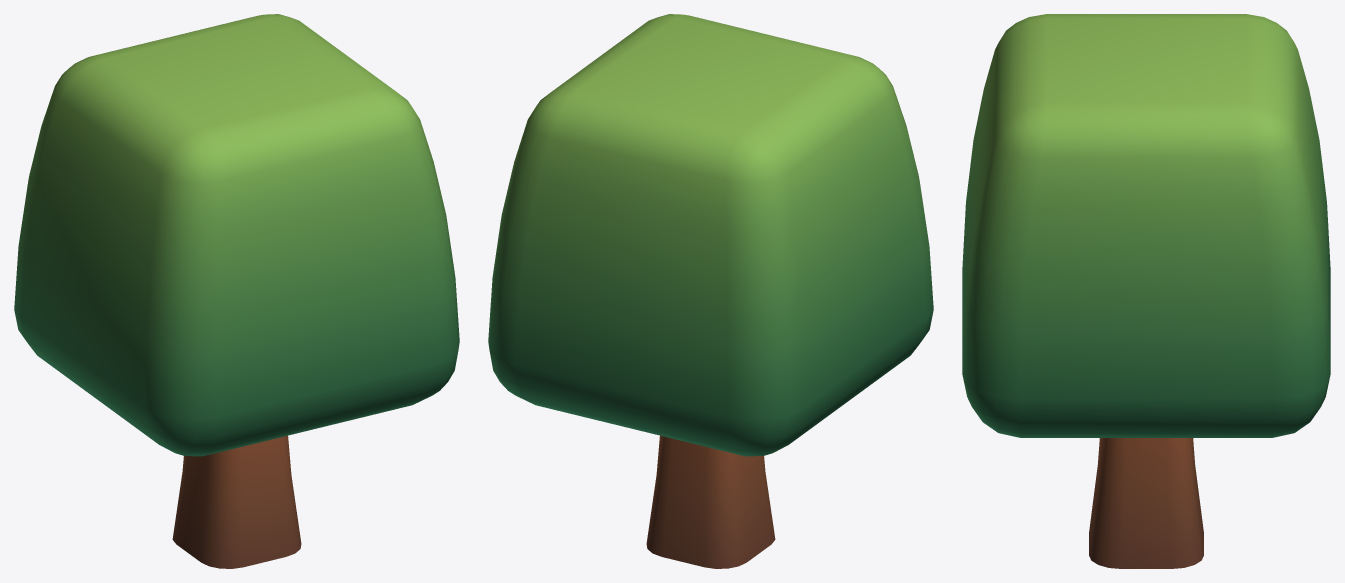
File: GreenBigTree.fbx
The picture shows the model from 3 angles, left to right: view 1: azimuth 30°, elevation 25°; view 2: azimuth 150°, elevation 25°; view 3: azimuth 270°, elevation 25°; orthographic projection. The views are drawn at different scales.
Visible parts, largest first — view 1: Cube.019; view 2: Cube.019; view 3: Cube.019.
Part boxes in pixels (x1,y1,x2,y2): Cube.019: (14,14,459,568); Cube.019: (488,14,933,568); Cube.019: (962,14,1330,568).
Size of the model in its own units: 1.27 by 1.84 by 1.27.
